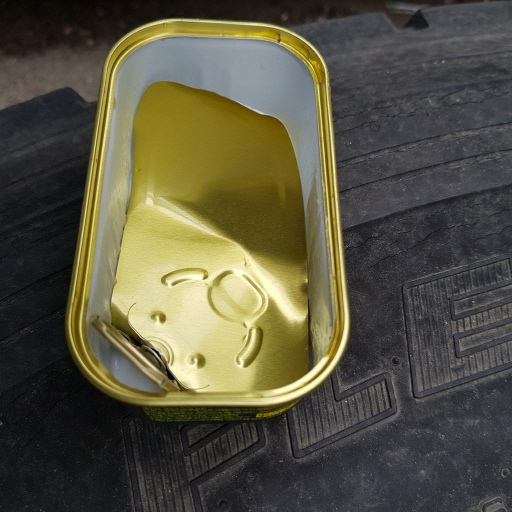Metal_2: (65, 19, 353, 424)
